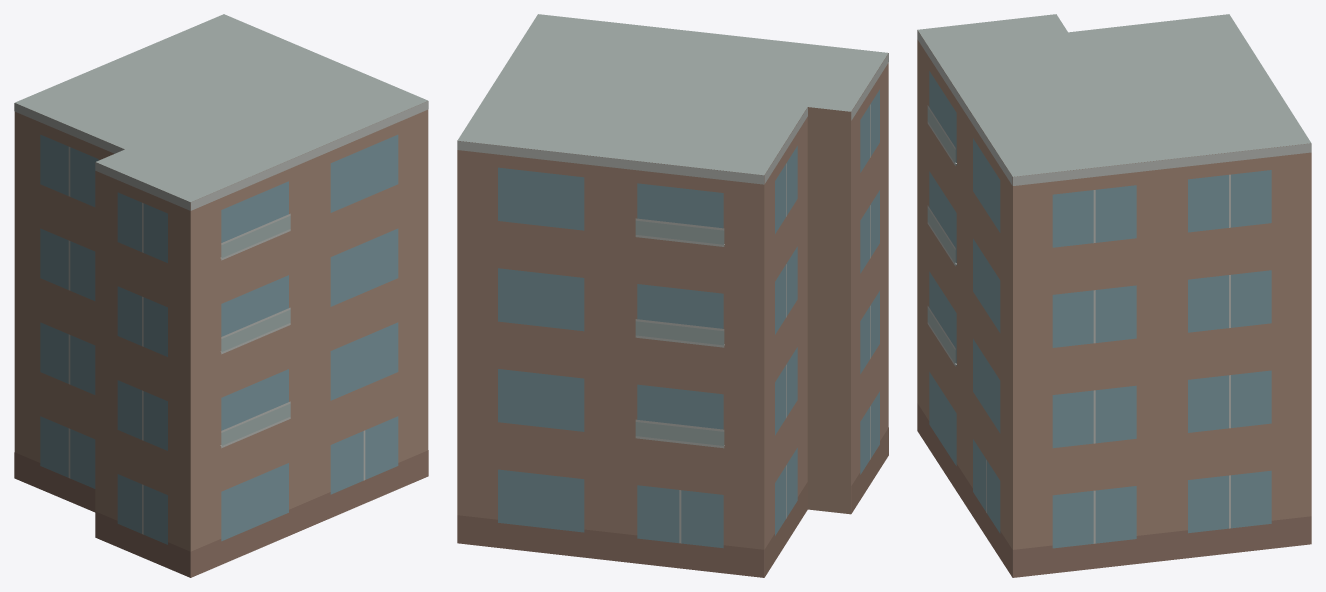
Rendered from survey-upis-32942065.glb.
3 views of the same model, side by side, from view 1: azimuth 30°, elevation 25°; view 2: azimuth 150°, elevation 25°; view 3: azimuth 270°, elevation 25° (orthographic). The views are drawn at different scales.
Parts seen in each view (by area): view 1: survey-upis-32942065.tmp; view 2: survey-upis-32942065.tmp; view 3: survey-upis-32942065.tmp.
Part boxes in pixels (<box>): survey-upis-32942065.tmp: <box>14,14,428,577</box>; survey-upis-32942065.tmp: <box>457,14,888,577</box>; survey-upis-32942065.tmp: <box>917,14,1311,577</box>.
Bounding box in the file's own units: 9.2 × 10.55 × 9.41.
